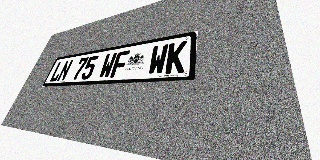5: (80, 55, 99, 80)
7: (71, 57, 89, 80)
F: (110, 50, 130, 78)
K: (165, 41, 187, 74)
L: (49, 61, 66, 82)
N: (56, 60, 74, 81)
W: (147, 44, 169, 75), (98, 52, 117, 79)
